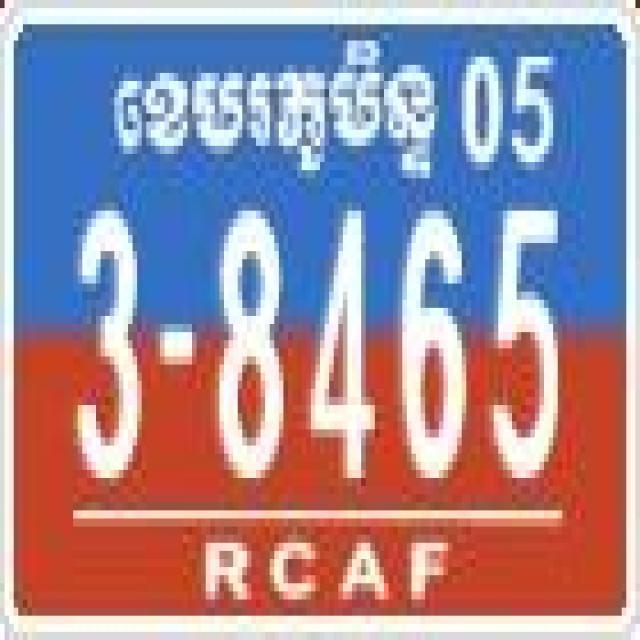RCAF: (105, 24, 444, 190)
